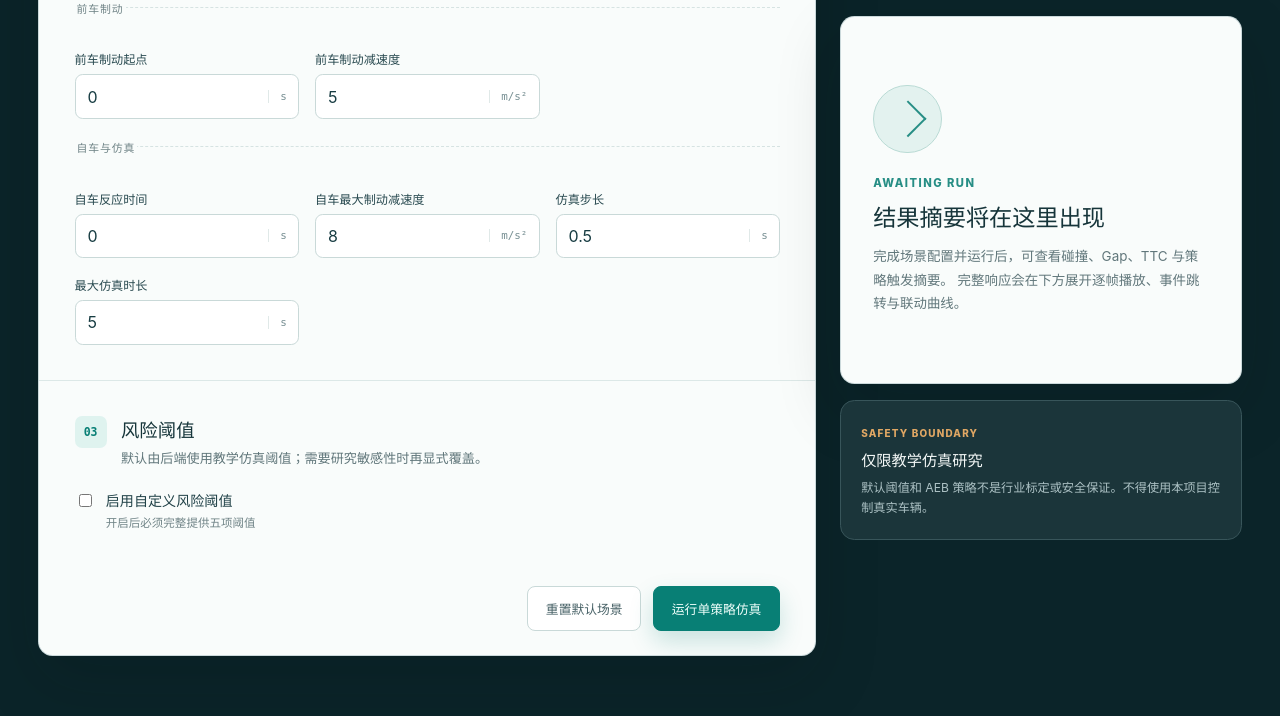
Test: Dashboard configuration workflow › resets a newly completed playback to the first frame
(page scrolled)
Click the button "运行单策略仿真" at point(717, 609), box [653,586,780,631]
(page scrolled)
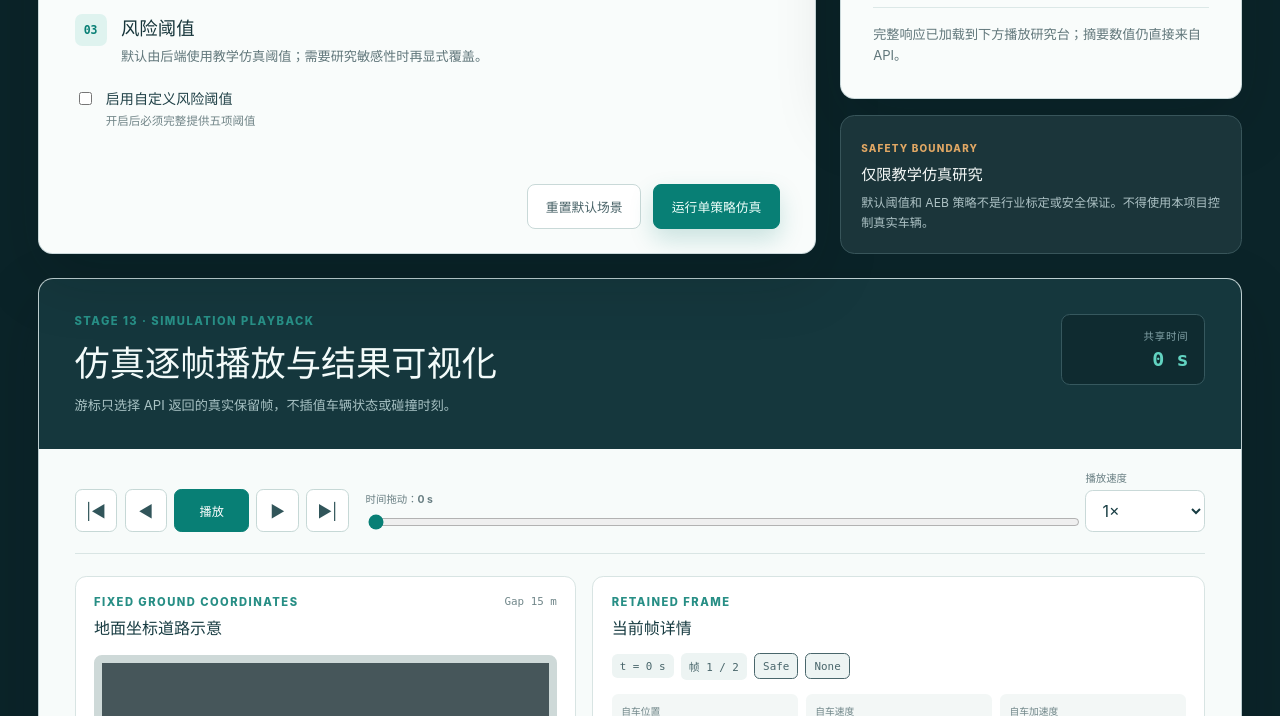
Check: the heading "仿真逐帧播放与结果可视化" is shown, box [75,335,497,386]
Click the button named "跳到末帧" at point(328, 511), box [306,489,349,532]
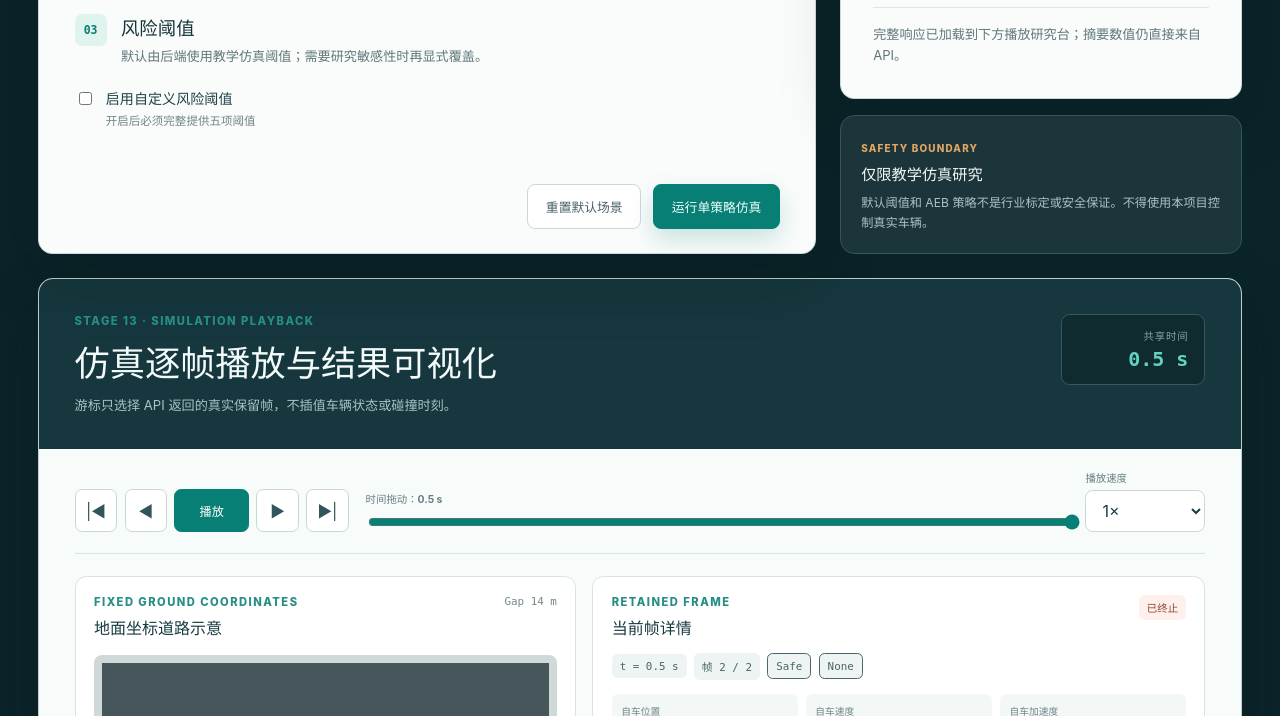
Check: the text "t = 0.5 s" is shown, box [612,654,687,678]
Click the button "运行单策略仿真" at point(717, 207), box [653,184,780,229]
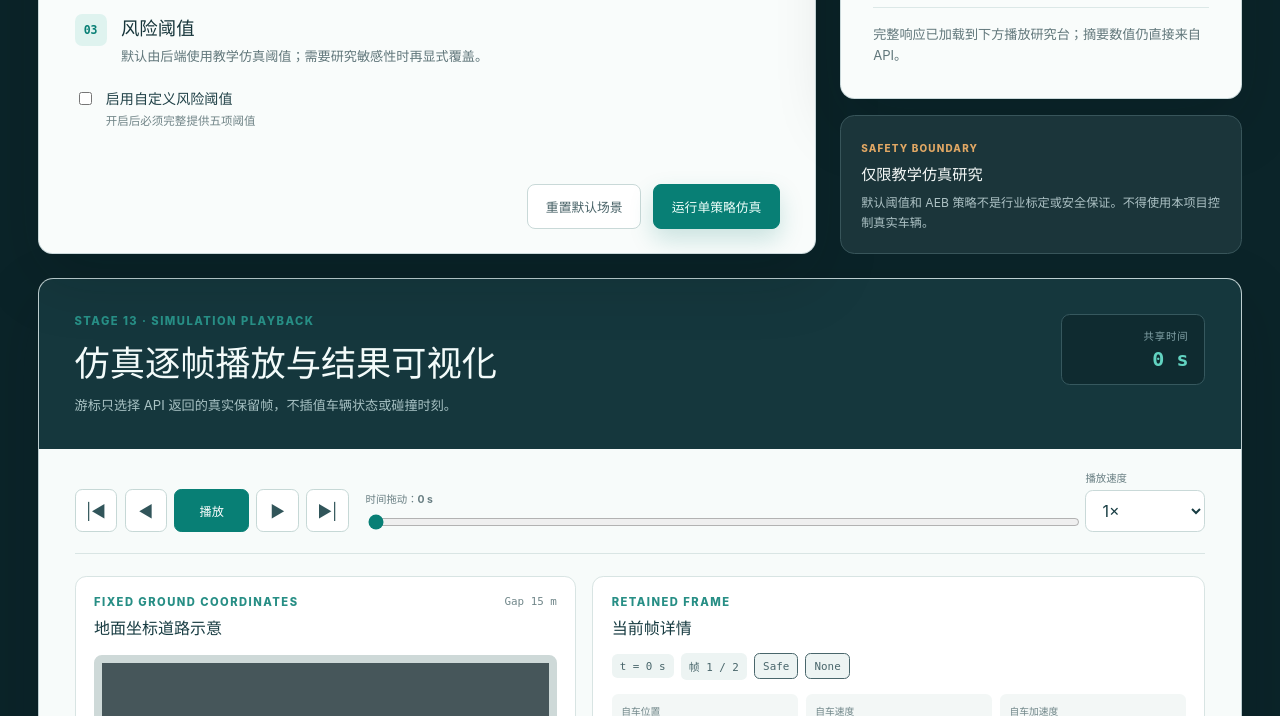
Check: the heading "仿真逐帧播放与结果可视化" is shown, box [75,335,497,386]
Check: the text "t = 0 s" is shown, box [612,654,674,678]
